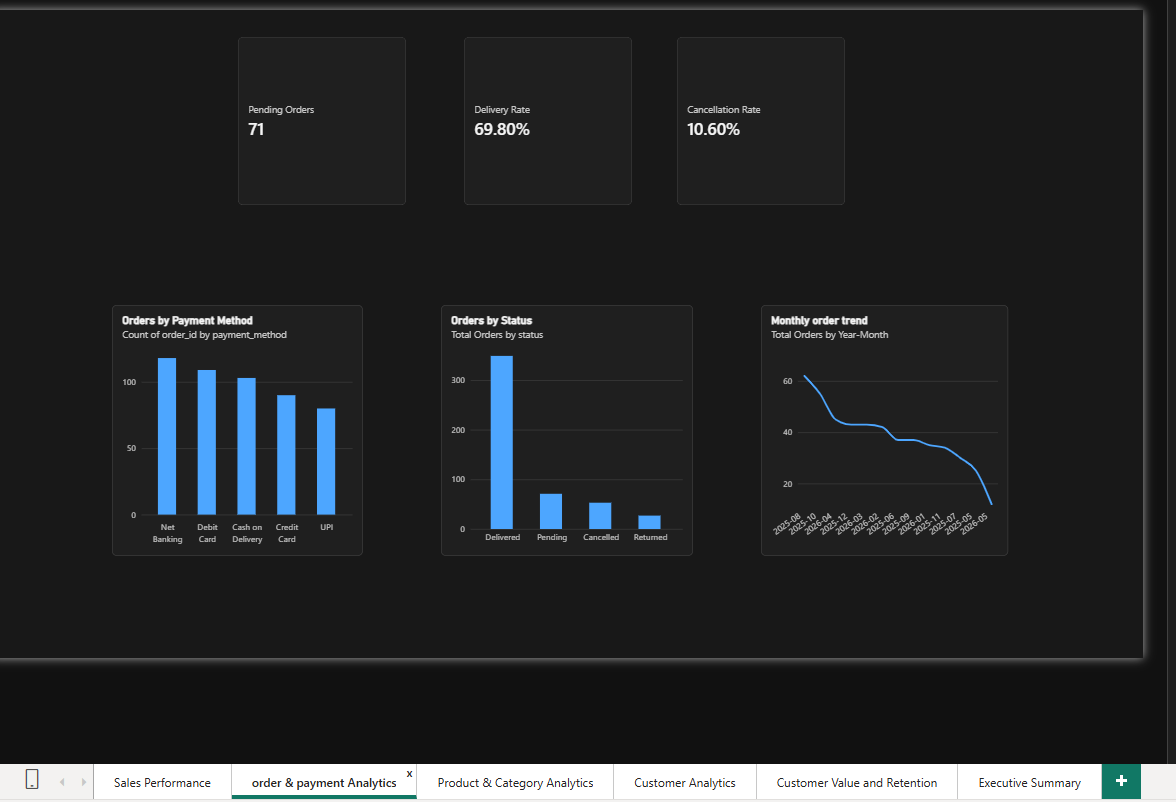

The page's visual inventory and layout, read from the dashboard file:
{"tool":"powerbi","page":{"name":"order & payment Analytics","canvas":[1920,1080],"ordinal":1},"visuals":[{"type":"cardVisual","fields":{"Data":["DateTable.Pending Orders"]},"box":[411.7,45,280,280],"z":0},{"type":"cardVisual","fields":{"Data":["DateTable.Delivery Rate"]},"box":[788.3,45,280,280],"z":1000},{"type":"cardVisual","fields":{"Data":["DateTable.Cancellation Rate"]},"box":[1143.3,45,280,280],"z":2000},{"type":"clusteredColumnChart","title":"Orders by Payment Method","fields":{"Category":["orders.payment_method"],"Y":["CountNonNull(orders.order_id)"]},"box":[201.7,491.7,418.3,418.3],"z":3000},{"type":"clusteredColumnChart","title":"Orders by Status","fields":{"Category":["orders.status"],"Y":["DateTable.Total Orders"]},"box":[750,491.7,420,418.3],"z":4000},{"type":"lineChart","title":"Monthly order trend","fields":{"Category":["DateTable.Year-Month"],"Y":["DateTable.Total Orders"]},"box":[1283.3,491.7,411.7,418.3],"z":5000}]}

Visuals, with their boxes on the page's 1920x1080 design canvas (x1, y1, x2, y2). These are canvas units, not pixel positions in the 1176x802 screenshot, which may show the page scaled, cropped or inside an application window:
cardVisual - DateTable.Pending Orders: box=[412, 45, 692, 325]
cardVisual - DateTable.Delivery Rate: box=[788, 45, 1068, 325]
cardVisual - DateTable.Cancellation Rate: box=[1143, 45, 1423, 325]
"Orders by Payment Method" clusteredColumnChart: box=[202, 492, 620, 910]
"Orders by Status" clusteredColumnChart: box=[750, 492, 1170, 910]
"Monthly order trend" lineChart: box=[1283, 492, 1695, 910]
